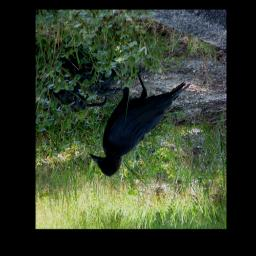Crow: (89, 67, 191, 178)
